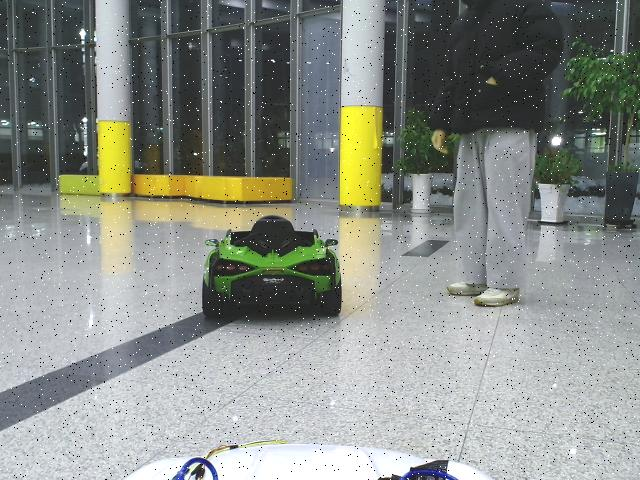car: (201, 216, 344, 320)
